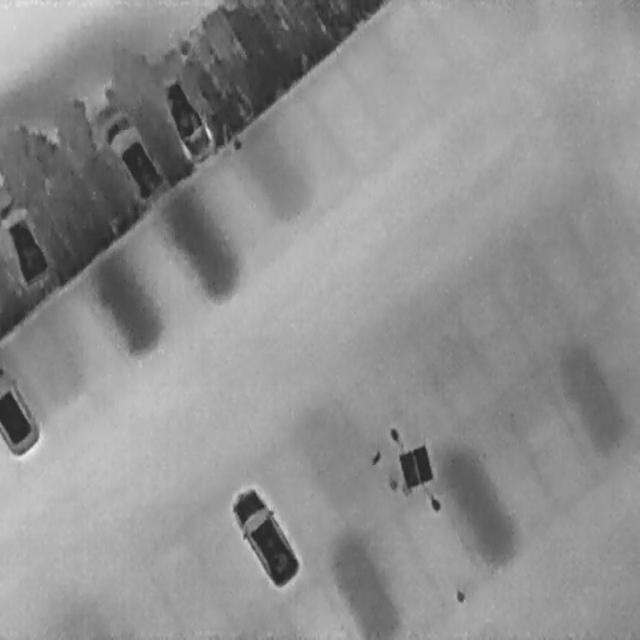Car: (219, 470, 307, 595), (94, 100, 172, 210), (153, 64, 219, 168), (0, 199, 54, 289), (0, 358, 39, 458)
